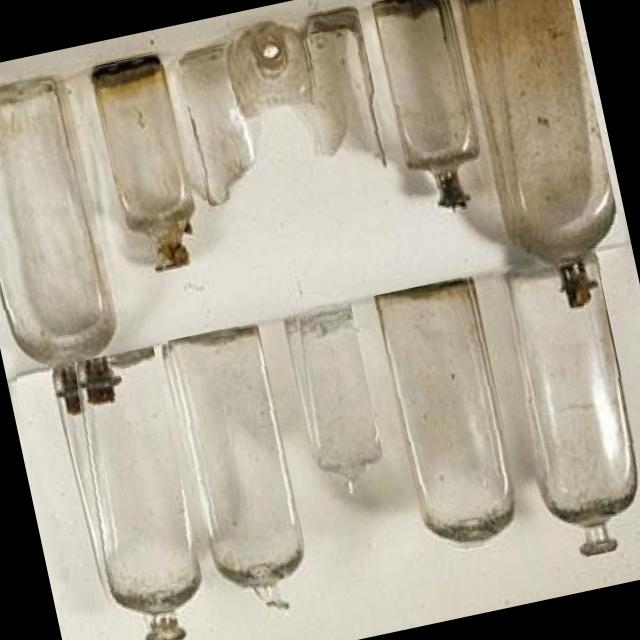Glass: (452, 0, 630, 302), (47, 344, 213, 640), (487, 242, 640, 563), (157, 320, 316, 628), (372, 272, 528, 558), (0, 72, 130, 412), (84, 49, 208, 278), (369, 0, 492, 217), (278, 299, 388, 502), (287, 1, 390, 182), (175, 38, 274, 205), (225, 13, 317, 118)
